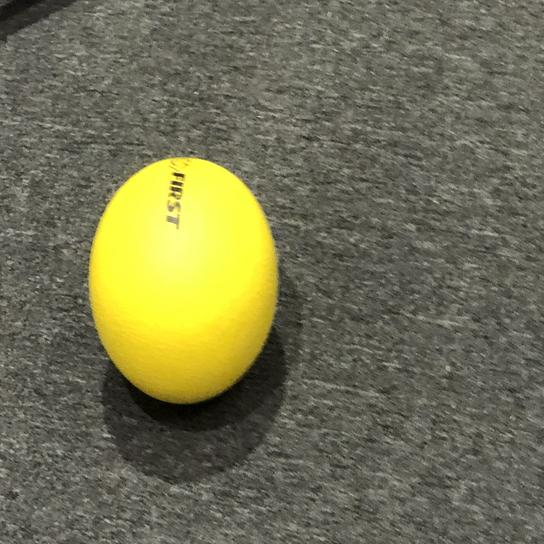ball: (82, 150, 282, 407)
